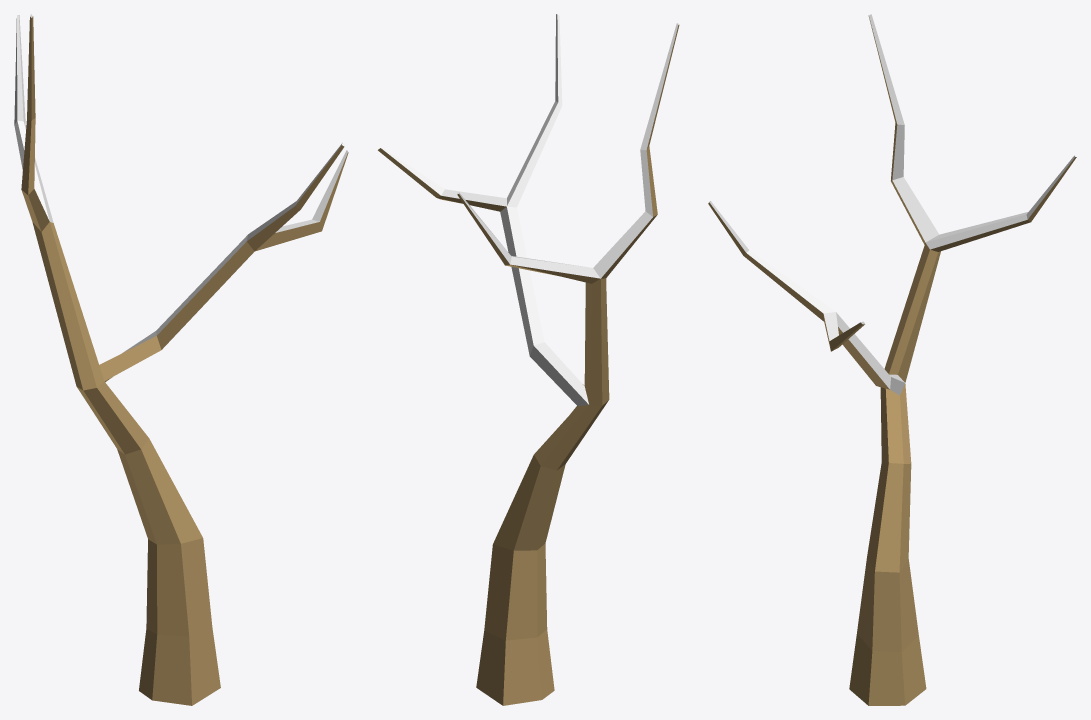
Rendered from Oak_Tree_NoLeaves_m_Snow_01_LOD.fbx.
The picture shows the model from 3 angles, left to right: view 1: azimuth 30°, elevation 25°; view 2: azimuth 150°, elevation 25°; view 3: azimuth 270°, elevation 25°; orthographic projection. The views are drawn at different scales.
Visible parts, largest first — view 1: Oak_Tree_NoLeaves_m_Snow_01_LOD0; view 2: Oak_Tree_NoLeaves_m_Snow_01_LOD0; view 3: Oak_Tree_NoLeaves_m_Snow_01_LOD0.
Part boxes in pixels (x1,y1,x2,y2): Oak_Tree_NoLeaves_m_Snow_01_LOD0: [14, 14, 348, 705]; Oak_Tree_NoLeaves_m_Snow_01_LOD0: [378, 14, 679, 705]; Oak_Tree_NoLeaves_m_Snow_01_LOD0: [708, 14, 1076, 705].
Size of what is drawn, in the model's own units: 308 by 673 by 366.
